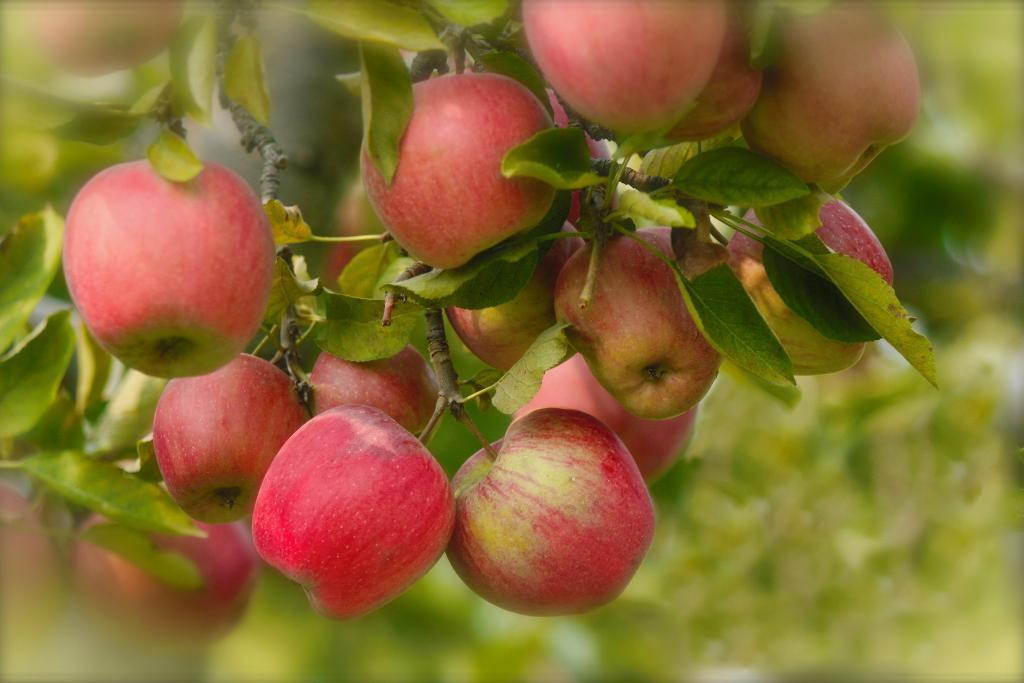apple: (60, 150, 272, 383), (249, 403, 457, 622), (444, 402, 654, 616), (370, 72, 561, 271), (150, 352, 309, 524)
